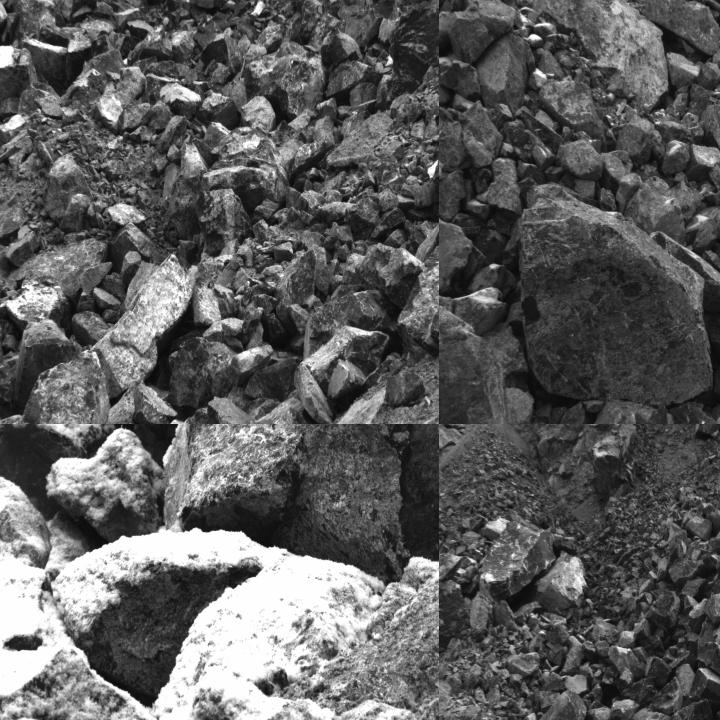stone: (161, 424, 438, 583), (519, 184, 709, 400), (49, 532, 274, 700), (91, 252, 196, 400), (44, 426, 162, 542), (439, 293, 504, 423), (0, 424, 116, 494), (17, 348, 110, 423), (200, 128, 289, 201), (480, 517, 553, 602), (244, 41, 322, 116), (383, 1, 438, 103), (15, 238, 108, 294), (168, 339, 233, 414), (476, 33, 533, 118), (447, 0, 518, 67), (355, 243, 425, 309), (539, 82, 606, 144), (645, 0, 719, 56), (626, 178, 687, 245), (439, 206, 485, 294), (195, 188, 252, 255), (452, 102, 503, 170), (44, 155, 93, 223), (274, 249, 316, 328), (439, 581, 472, 681), (534, 554, 587, 614), (5, 278, 69, 327), (478, 158, 522, 220), (346, 0, 405, 46), (614, 109, 661, 164), (200, 27, 251, 77), (325, 61, 381, 106), (246, 356, 298, 404), (0, 44, 36, 110), (246, 392, 317, 423), (439, 108, 472, 171), (588, 399, 672, 423), (13, 0, 56, 45), (133, 382, 179, 423), (231, 344, 274, 386), (558, 141, 602, 181), (328, 360, 368, 403), (644, 590, 681, 634), (534, 690, 589, 719), (348, 194, 382, 240), (193, 282, 227, 326), (92, 92, 124, 138), (160, 82, 202, 117), (196, 94, 239, 128), (439, 168, 466, 222), (385, 371, 425, 407), (687, 665, 719, 709), (131, 27, 174, 59), (72, 310, 109, 346), (241, 96, 276, 134), (701, 98, 719, 171), (326, 31, 362, 66), (608, 644, 646, 676), (207, 396, 252, 423), (668, 557, 708, 587), (0, 206, 29, 247), (651, 677, 682, 714), (371, 207, 406, 239), (662, 698, 715, 719), (120, 103, 153, 134), (698, 644, 719, 691), (168, 30, 196, 64), (452, 212, 487, 238), (315, 259, 339, 296), (644, 656, 670, 687), (508, 652, 540, 677), (439, 551, 460, 588), (252, 199, 280, 226), (120, 251, 141, 285), (686, 516, 712, 543), (609, 699, 641, 719), (285, 187, 309, 212), (703, 590, 719, 625), (637, 686, 659, 708), (632, 707, 669, 719), (616, 669, 635, 692)
